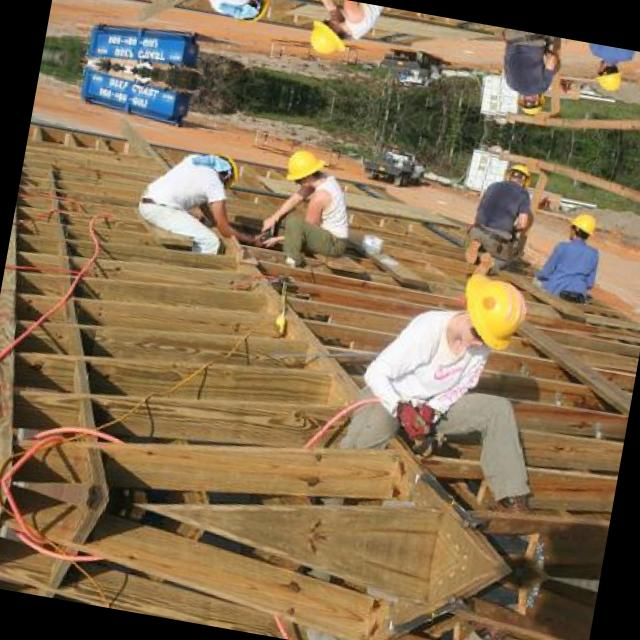helmet: (450, 266, 530, 356), (306, 16, 352, 59), (284, 146, 329, 189), (200, 144, 240, 188), (228, 0, 268, 31), (594, 59, 626, 93), (512, 89, 544, 122), (501, 156, 532, 190), (568, 210, 598, 244)
